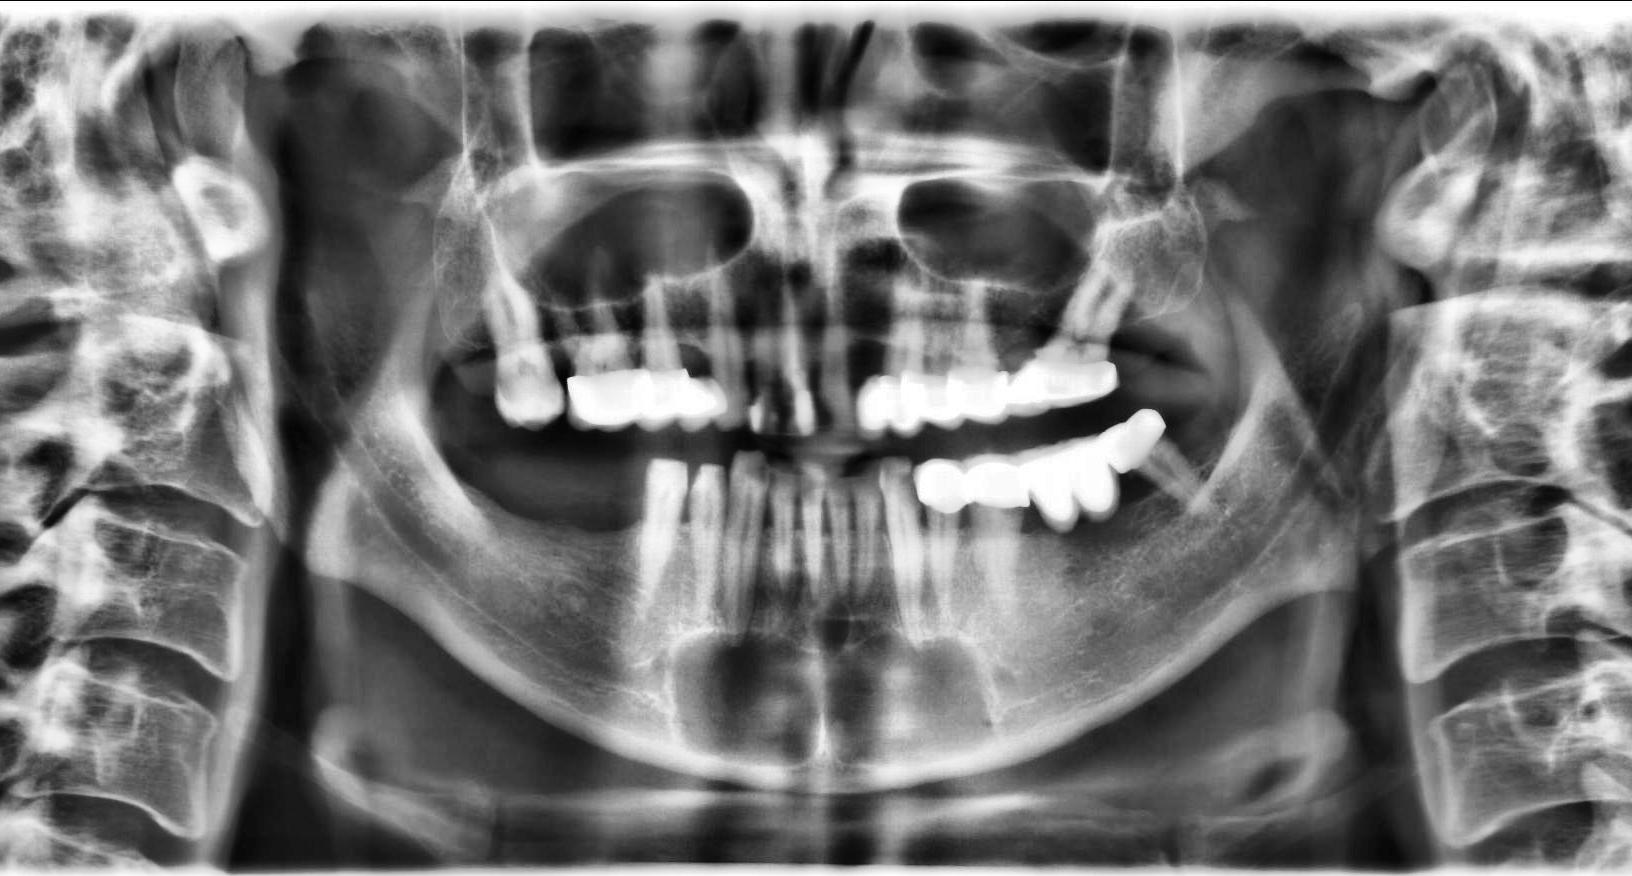radikuler: (671, 598, 1015, 767)
